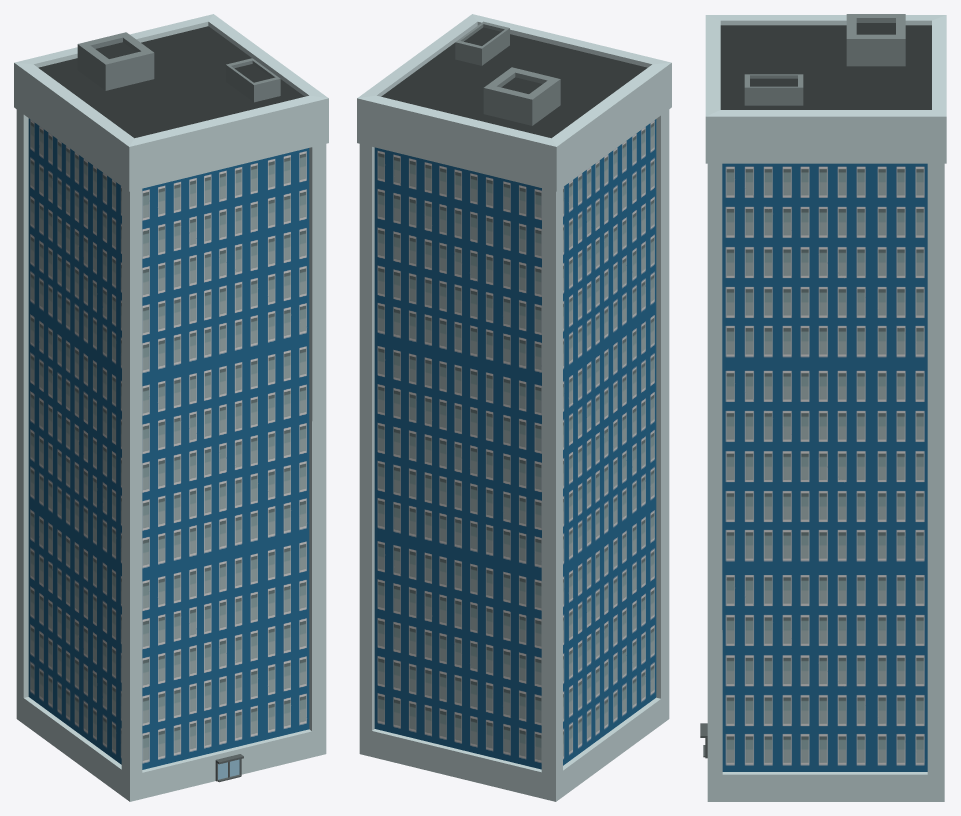
Rendered from High Tower high.fbx.
The picture shows the model from 3 angles, left to right: view 1: azimuth 30°, elevation 25°; view 2: azimuth 150°, elevation 25°; view 3: azimuth 270°, elevation 25°; orthographic projection. The views are drawn at different scales.
Parts seen in each view (by area): view 1: High Tower High; view 2: High Tower High; view 3: High Tower High.
Part boxes in pixels (box(x1,y1,x2,y2)): High Tower High: box(14, 14, 328, 801); High Tower High: box(357, 14, 671, 801); High Tower High: box(700, 14, 946, 801).
Size of the model in its own units: 8.56 by 27.8 by 8.75.
